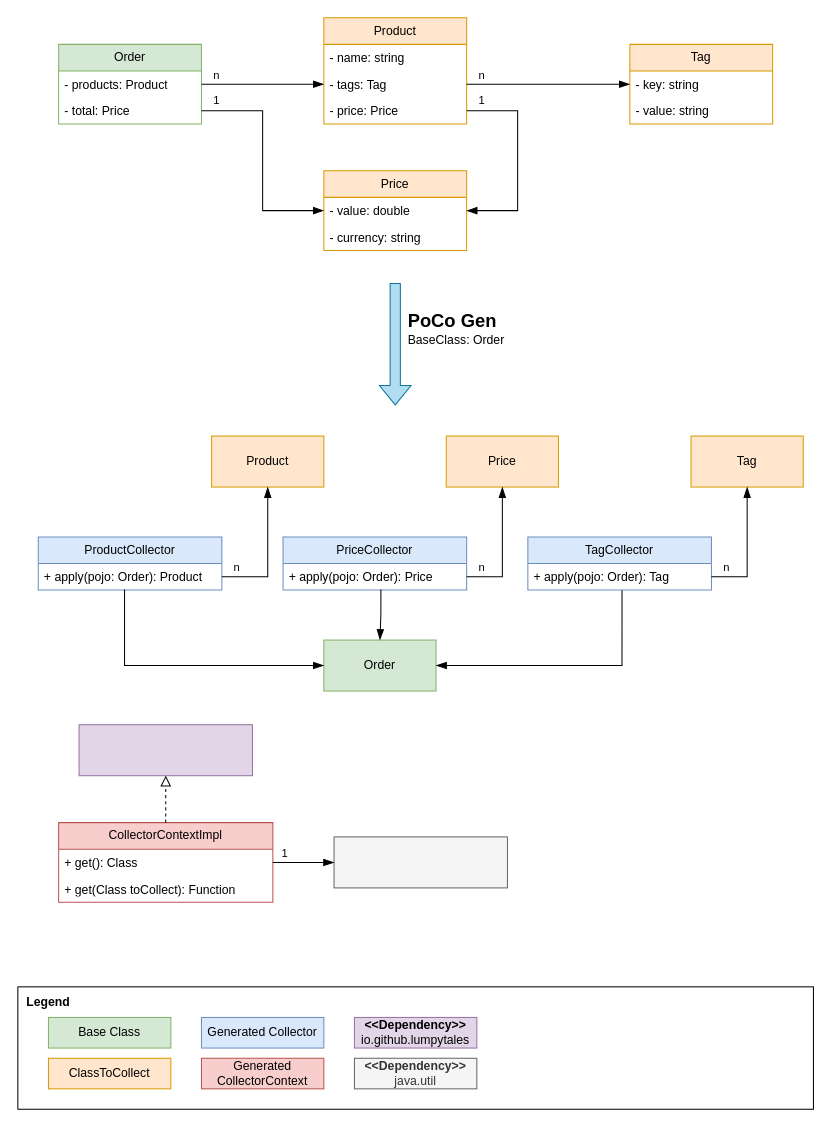
This 831x1127 diagram has some shape labels left out. Here are the shapes that lost their labels. From the top down, the centre of each, then its label:
At (165,750): "«interface» io.github.lumpytales. poco.core.CollectorContext".
At (420,862): "«interface» java.util.function.Function".
